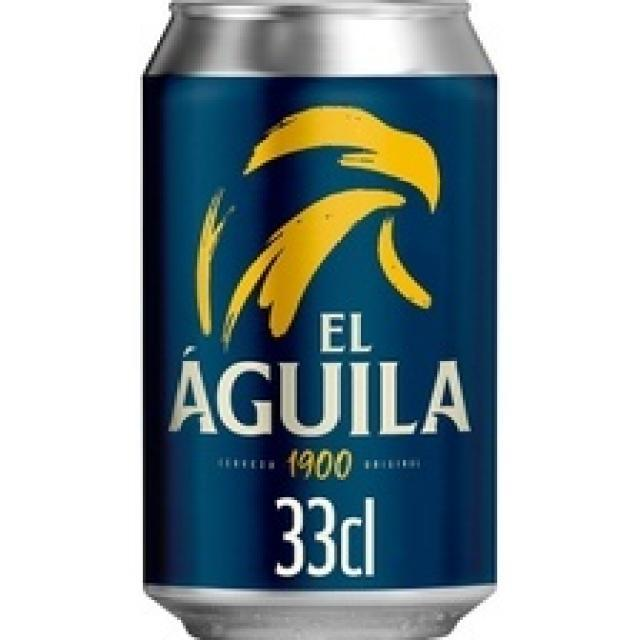recyclable: (141, 0, 499, 640)
